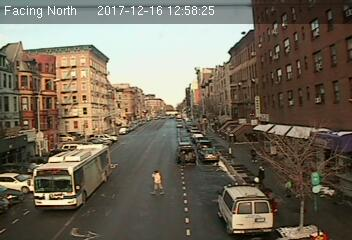bus: (29, 142, 112, 208)
car: (177, 144, 195, 164), (199, 147, 220, 162)
pedestrian: (150, 169, 166, 197), (255, 164, 266, 188)
police: (217, 181, 273, 234)
